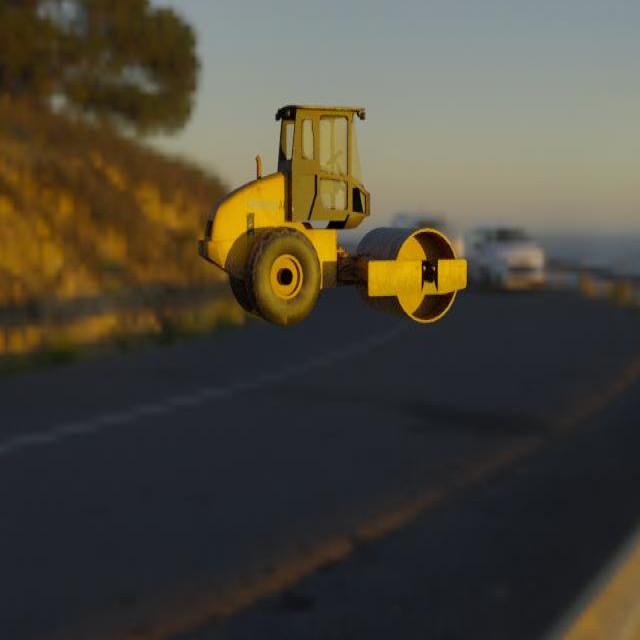Roller: (197, 105, 467, 327)
